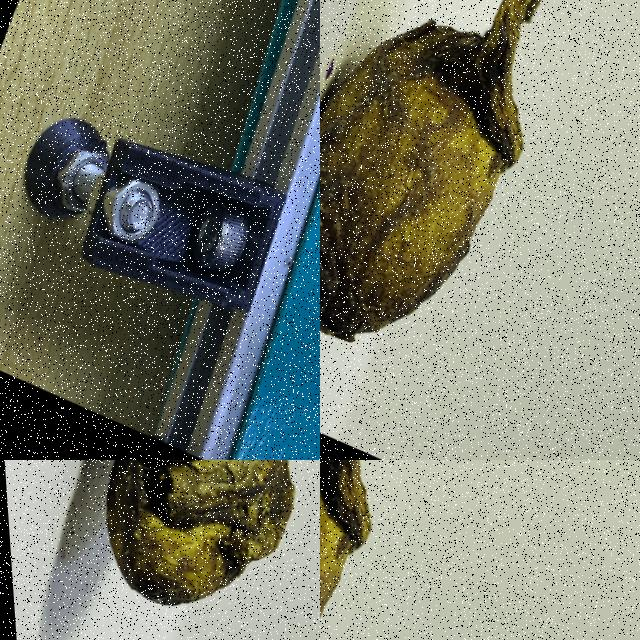Agglomerated_cocoabeans: (320, 0, 638, 448), (0, 460, 319, 639), (232, 29, 319, 378), (320, 460, 486, 639)
